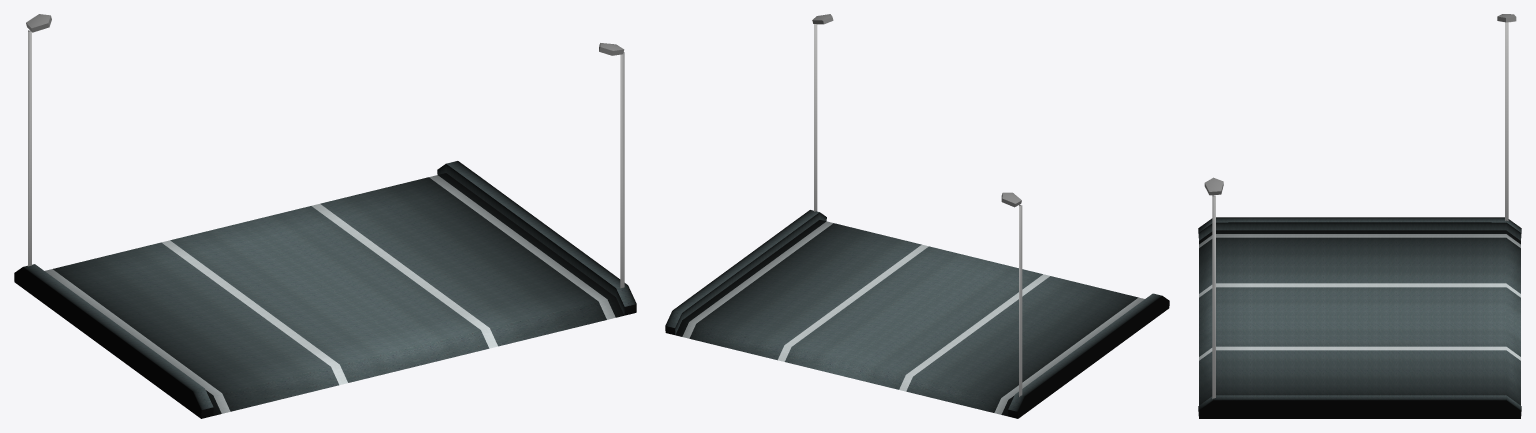
Rendered from K_KOKUDO25.glb.
3 renders of one model, left to right at view 1: azimuth 30°, elevation 25°; view 2: azimuth 150°, elevation 25°; view 3: azimuth 270°, elevation 25°, orthographic. The views are drawn at different scales.
Parts seen in each view (by area): view 1: obj3, obj2, obj1; view 2: obj3, obj1, obj2; view 3: obj3, obj2, obj1.
Part boxes in pixels (left/top/right/bottom): obj3: left=14, top=161, right=636, bottom=418; obj2: left=599, top=43, right=624, bottom=288; obj1: left=26, top=14, right=51, bottom=266; obj3: left=665, top=210, right=1169, bottom=418; obj1: left=1001, top=192, right=1022, bottom=396; obj2: left=812, top=14, right=833, bottom=211; obj3: left=1198, top=217, right=1521, bottom=418; obj2: left=1204, top=177, right=1223, bottom=398; obj1: left=1497, top=14, right=1516, bottom=221.
Size of the model in its own units: 37 by 21.65 by 27.6.
Materials: 6 (4 with a texture image).
